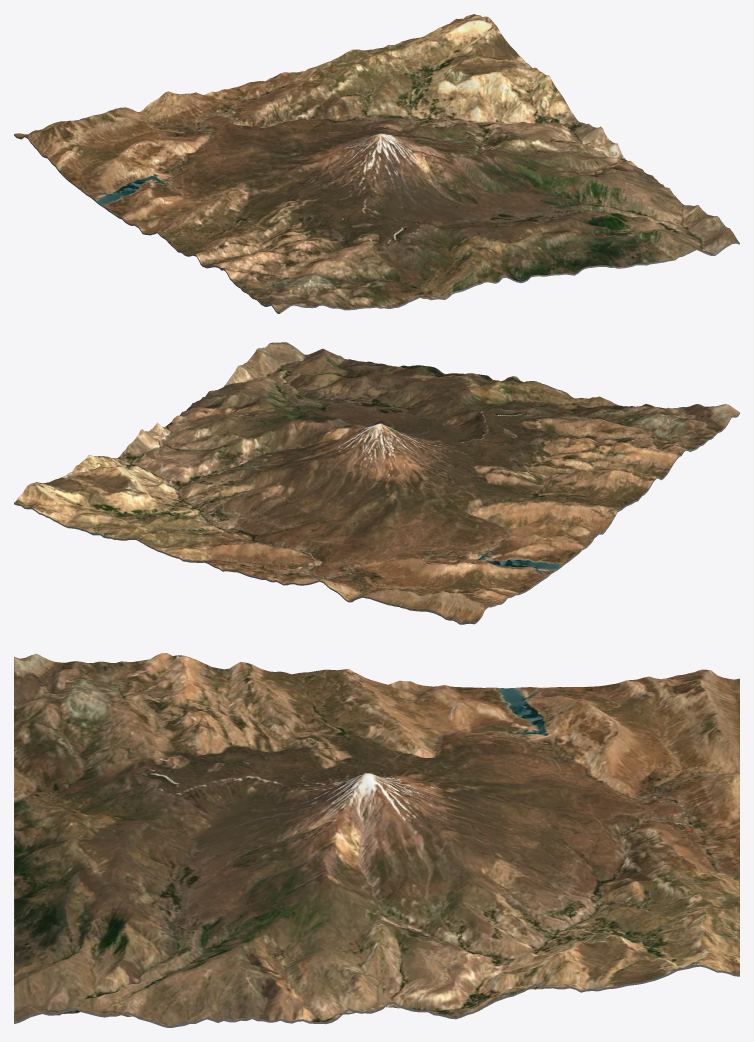
3 renders of one model, top to bottom at view 1: azimuth 30°, elevation 25°; view 2: azimuth 150°, elevation 25°; view 3: azimuth 270°, elevation 25°, orthographic. The views are drawn at different scales.
Visible parts, largest first — view 1: terrain, skirt; view 2: terrain, skirt; view 3: terrain, skirt.
Part boxes in pixels (<box>): terrain: <box>14,14,739,312</box>; skirt: <box>14,134,739,313</box>; terrain: <box>14,342,739,623</box>; skirt: <box>14,413,739,624</box>; terrain: <box>14,653,739,1025</box>; skirt: <box>14,964,739,1027</box>.
Size of the model in its own units: 30000 by 4790 by 30000.
1 material, 1 textured.
